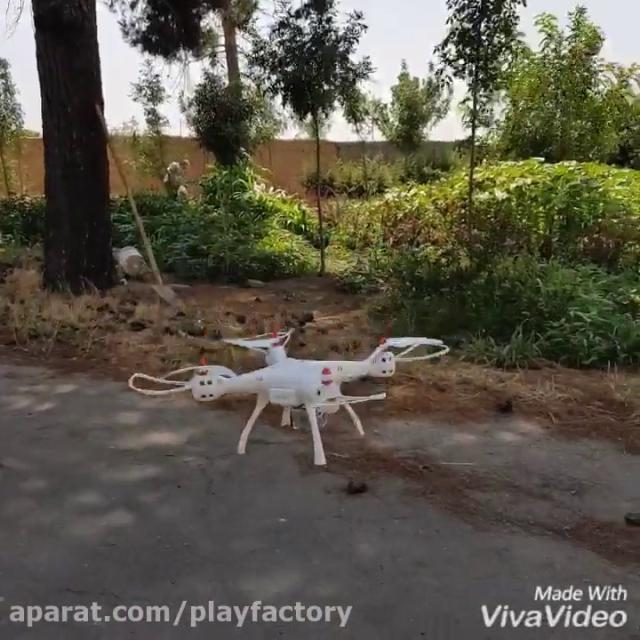drone: (127, 325, 451, 467)
